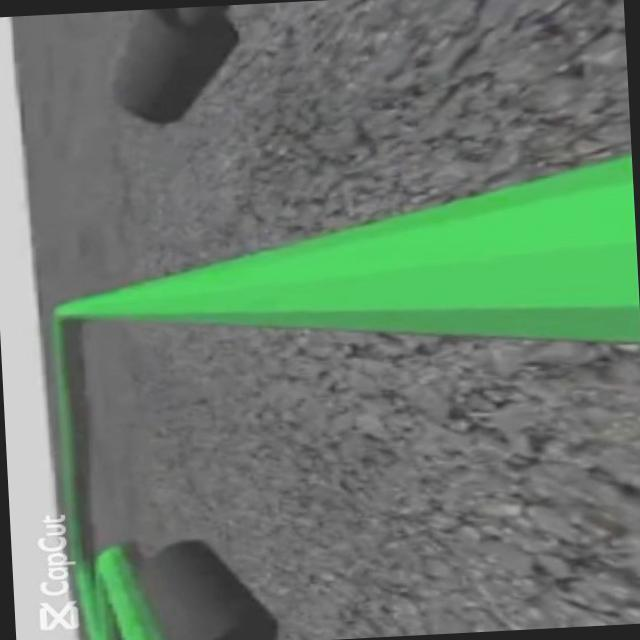gas: (70, 151, 640, 373)
